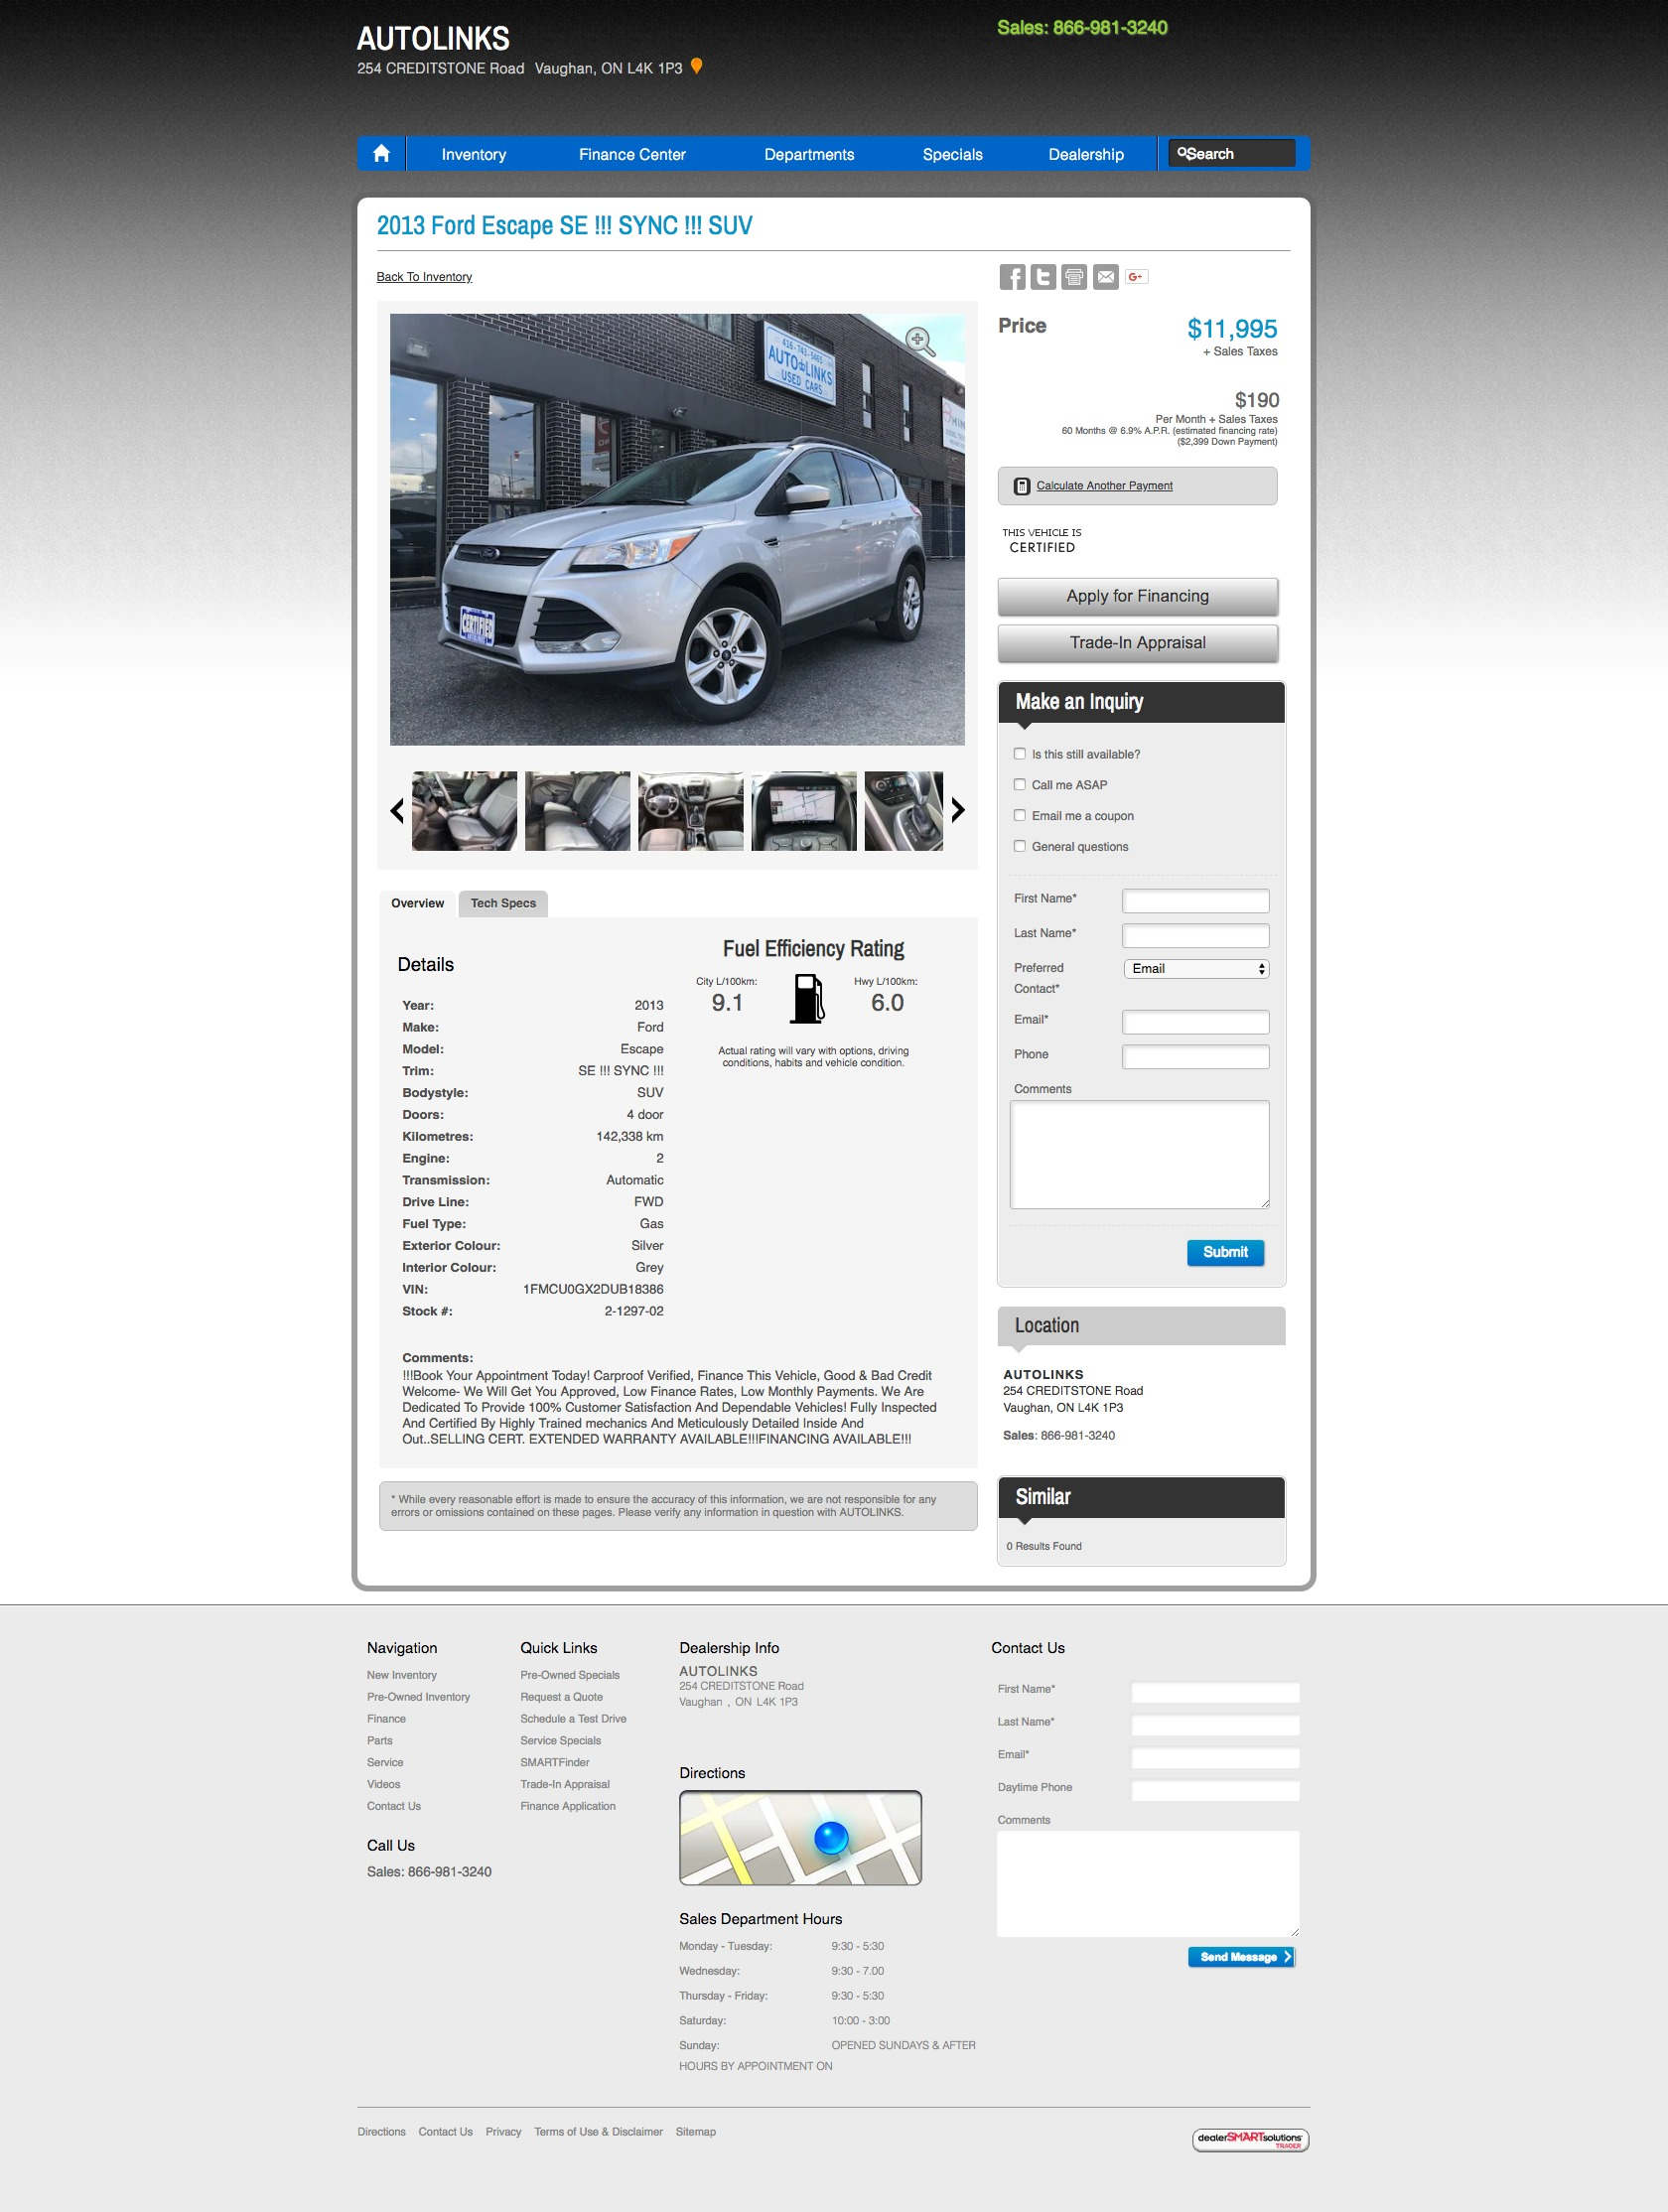car: (950, 797, 967, 825)
